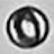correct: (6, 3, 51, 46)
